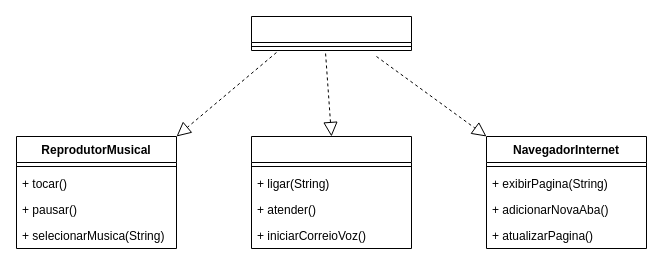
Image size: 663x265. Some labels were removed from this diagram. Here are the shapes that lost their labels. From the top down, the box of each, then its label:
(250, 16, 412, 50): Iphone
(250, 136, 412, 248): AparelhoTelefonico
